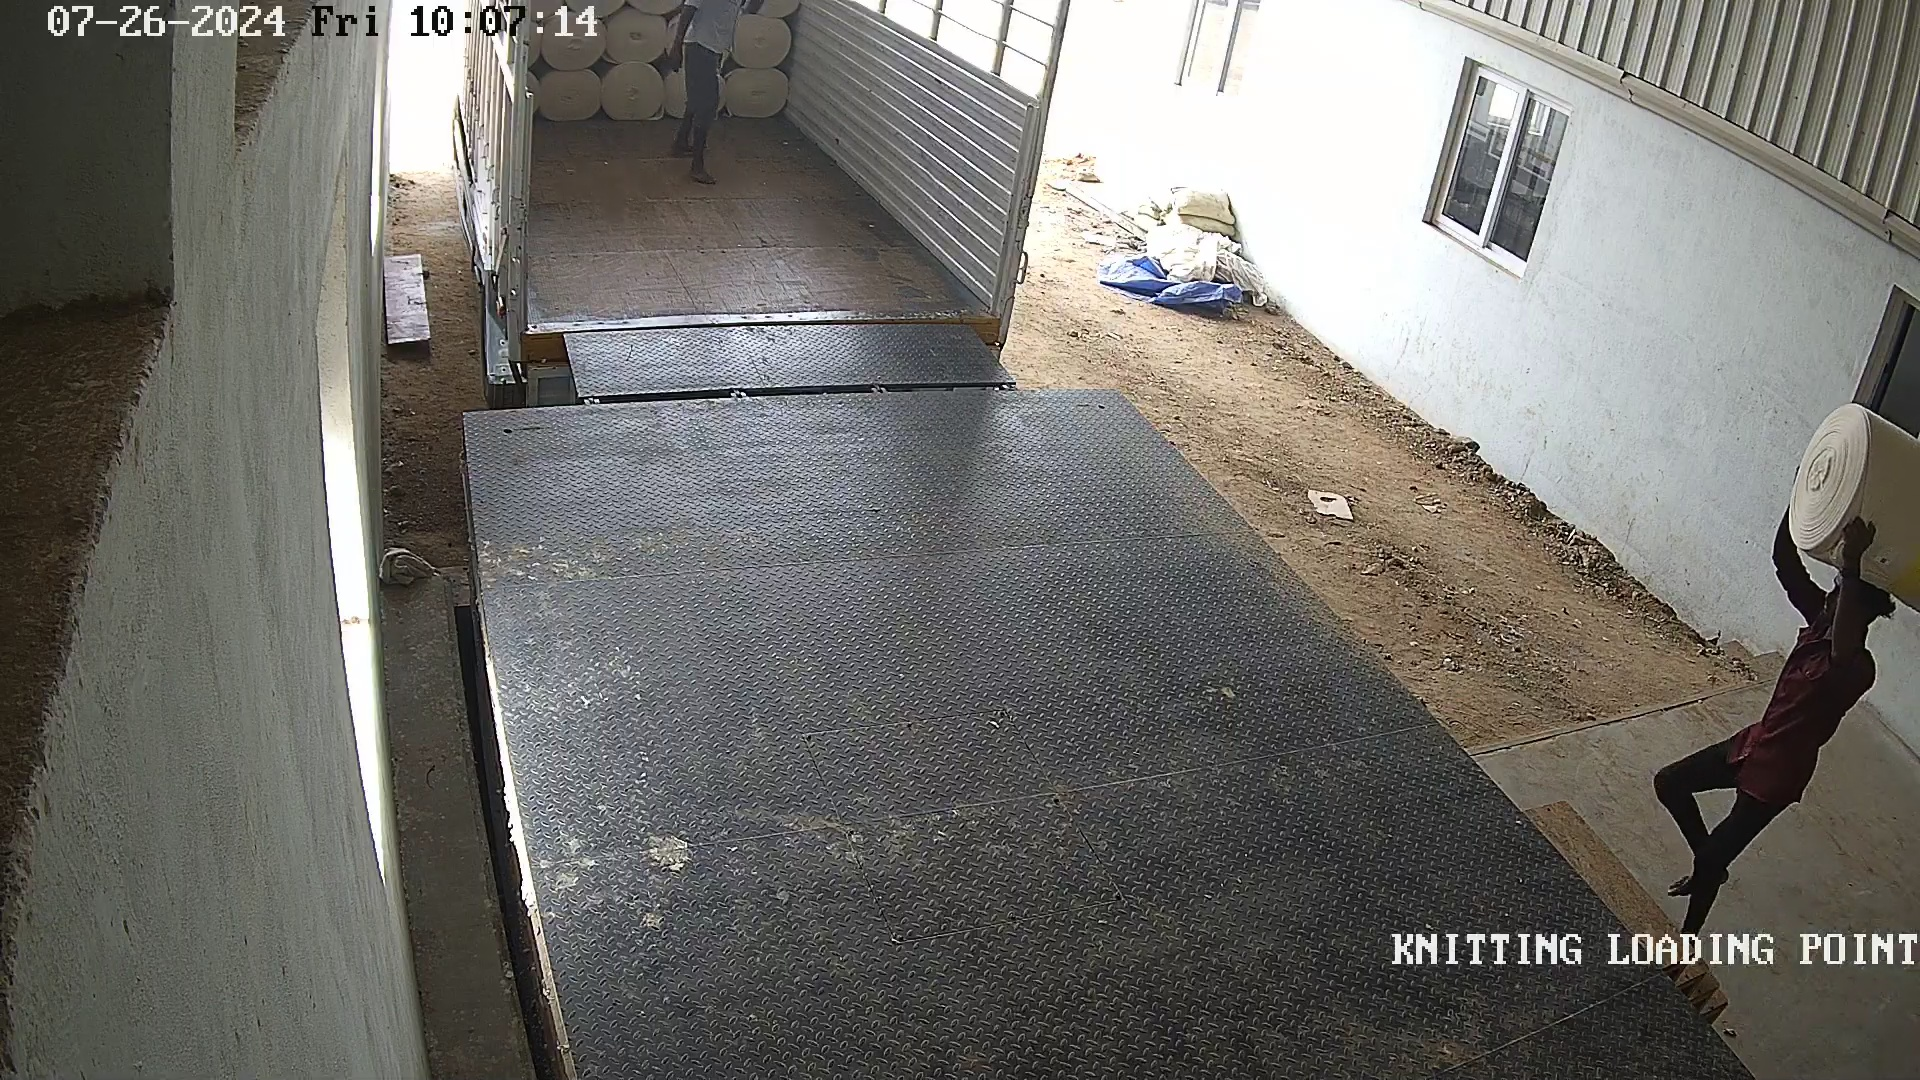bag: (1770, 397, 1920, 615)
